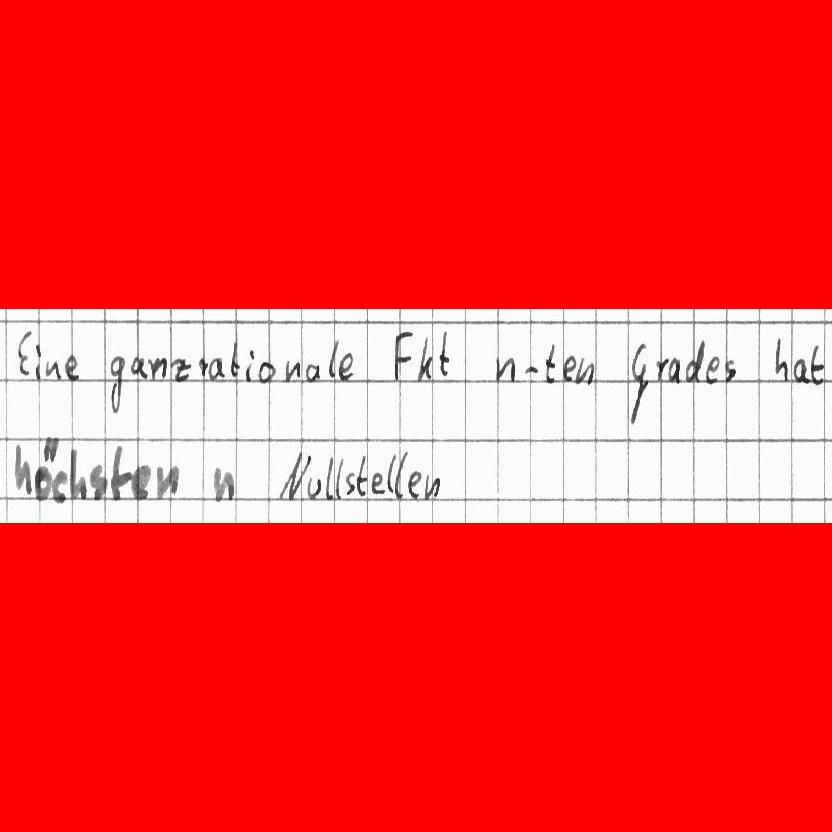Char: (275, 448, 310, 501), (626, 343, 650, 420), (34, 435, 59, 501), (108, 445, 130, 501), (13, 444, 34, 497), (391, 330, 413, 380), (107, 353, 124, 417), (683, 338, 705, 384), (153, 463, 178, 501), (211, 464, 233, 503), (70, 447, 85, 503), (415, 337, 433, 383), (16, 327, 32, 378), (772, 335, 789, 381), (436, 329, 451, 378), (393, 450, 408, 498), (656, 354, 679, 384), (493, 354, 515, 383), (132, 464, 149, 501), (200, 356, 223, 383), (542, 343, 557, 383), (810, 344, 824, 383), (577, 358, 596, 386), (54, 468, 69, 503), (64, 352, 81, 382), (357, 454, 369, 496), (129, 354, 148, 380), (560, 352, 577, 381), (328, 341, 340, 381), (91, 466, 105, 500), (229, 340, 241, 379), (170, 358, 191, 380), (256, 360, 276, 383), (407, 470, 422, 500), (705, 355, 720, 384), (334, 457, 344, 499), (283, 360, 302, 382), (33, 343, 44, 380), (387, 452, 396, 497), (325, 456, 334, 501), (722, 358, 738, 383), (305, 476, 321, 501), (303, 361, 322, 382), (244, 348, 256, 381), (44, 358, 62, 380), (371, 471, 386, 497), (425, 474, 440, 500), (792, 359, 808, 383), (340, 355, 355, 380), (151, 357, 167, 380), (523, 361, 540, 380), (344, 472, 356, 497)
